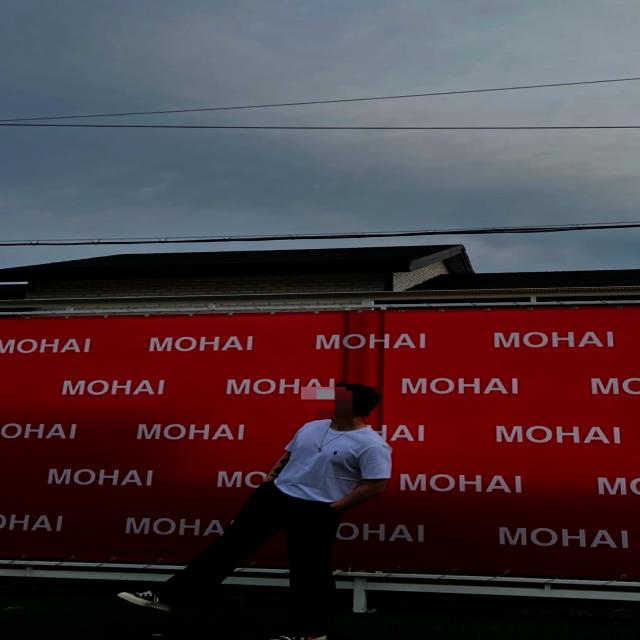shortsleeve: (272, 416, 392, 504)
slacks: (152, 481, 340, 639)
